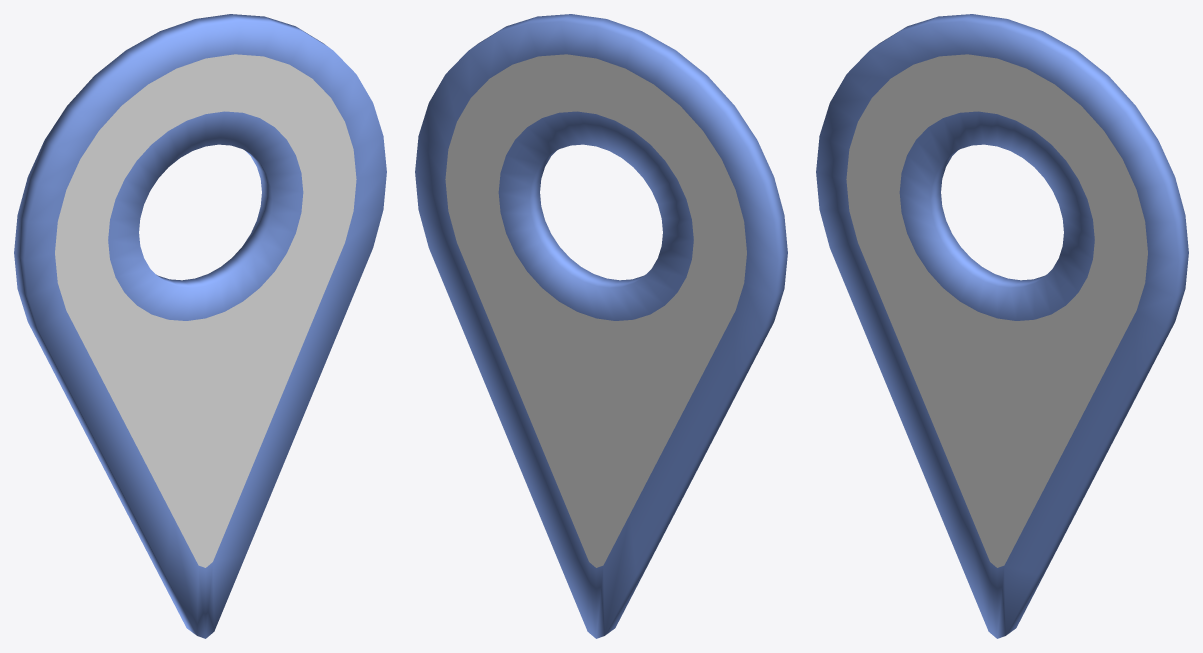
The model's file is Anchor.glb.
The picture shows the model from 3 angles, left to right: view 1: azimuth 30°, elevation 25°; view 2: azimuth 150°, elevation 25°; view 3: azimuth 330°, elevation 25°; orthographic projection.
Visible parts, largest first — view 1: Anchor; view 2: Anchor; view 3: Anchor.
Boxes of the visible parts, <box> form: Anchor: <box>14,14,386,638</box>; Anchor: <box>415,14,787,638</box>; Anchor: <box>816,14,1188,638</box>.
Bounding box in the file's own units: 0.1 × 0.1614 × 0.005.
